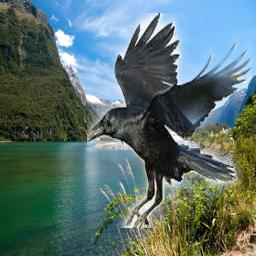Crow: (88, 14, 253, 229)
